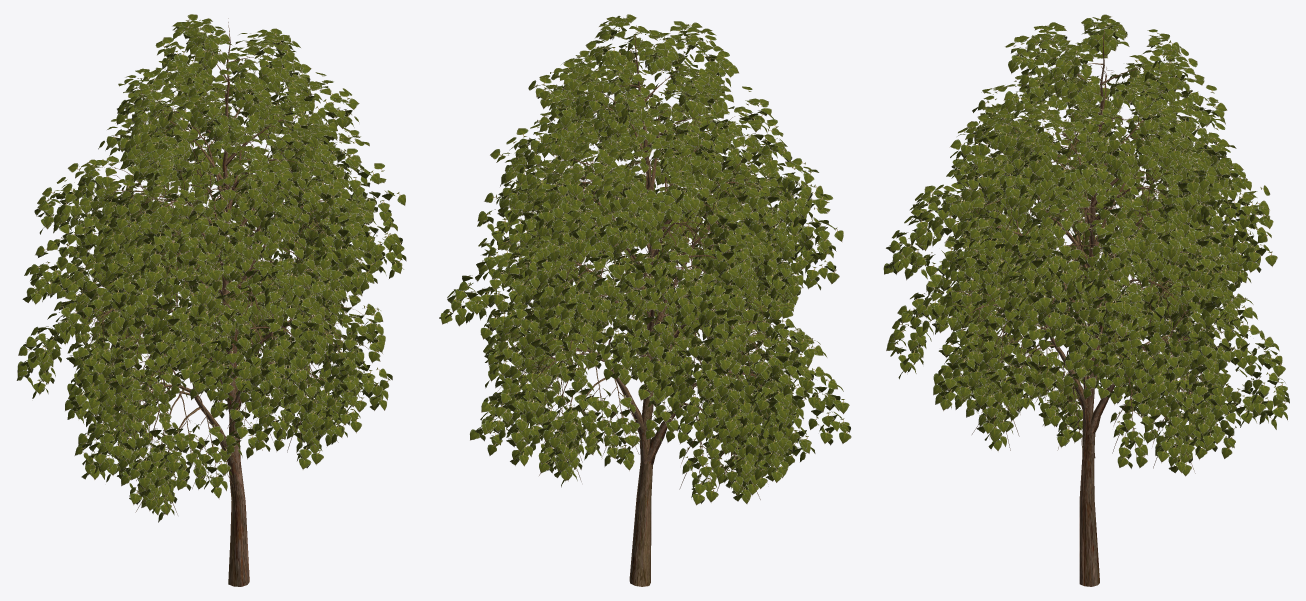
The model's file is tree1.glb.
3 views of the same model, side by side, from view 1: azimuth 30°, elevation 25°; view 2: azimuth 150°, elevation 25°; view 3: azimuth 270°, elevation 25° (orthographic).
Size of the model in its own units: 10.14 by 15.83 by 10.45.
2 materials, 2 textured.
